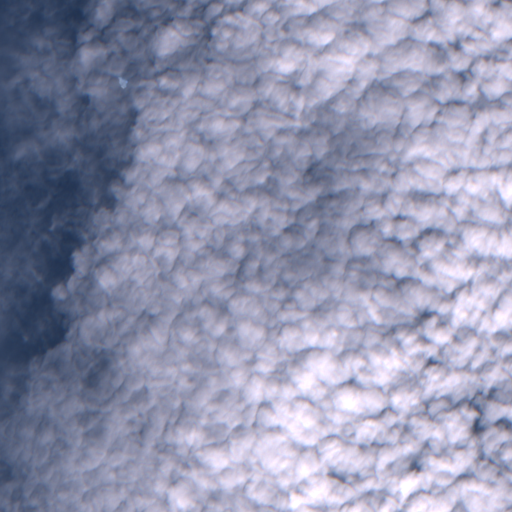Iceberg: (119, 78, 127, 88)
